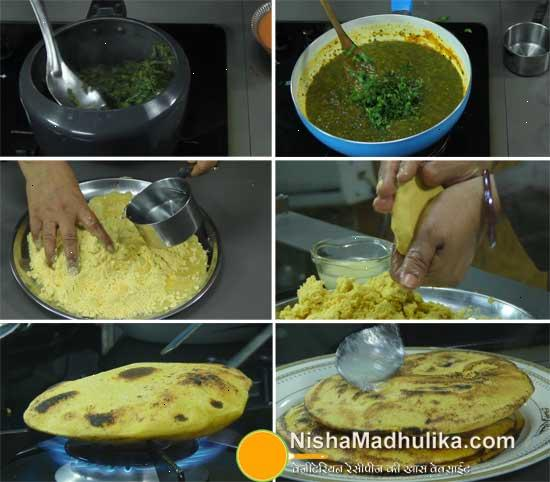saag: (309, 40, 464, 142)
